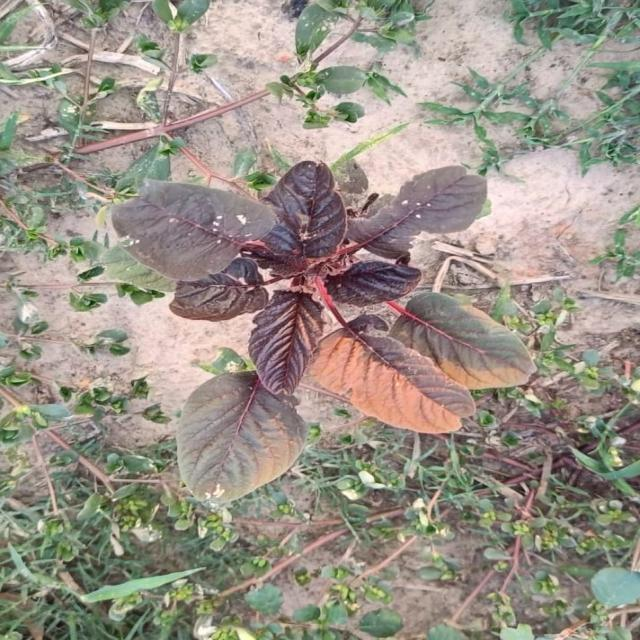plant: (111, 161, 535, 499)
